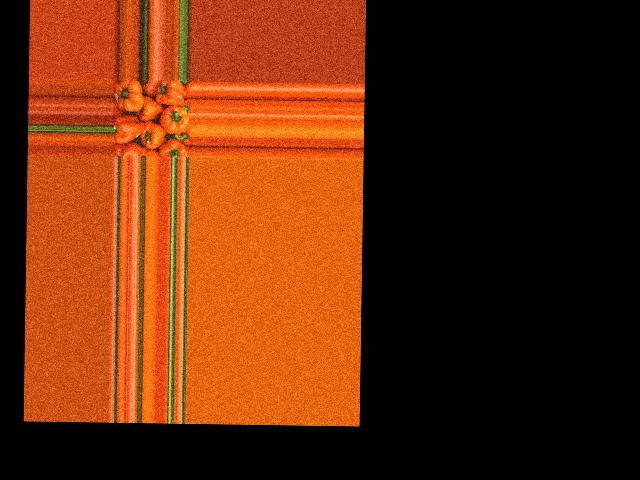bell_pepper: (111, 143, 142, 156)
